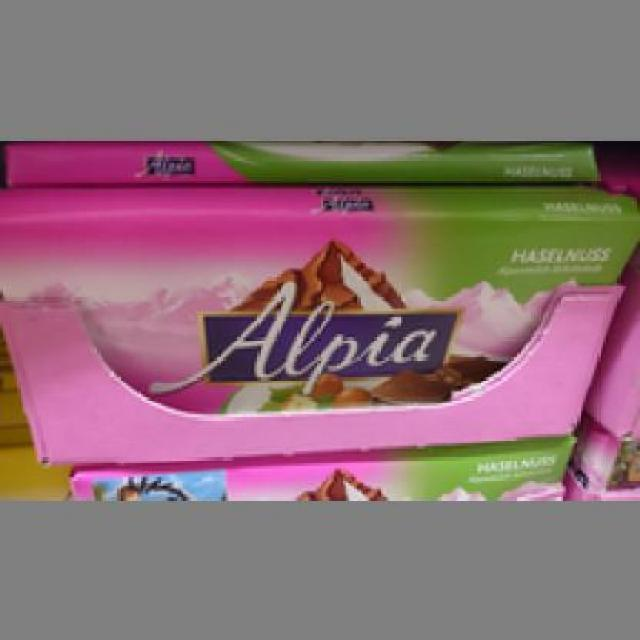Chocolate bar: (1, 186, 637, 423)
